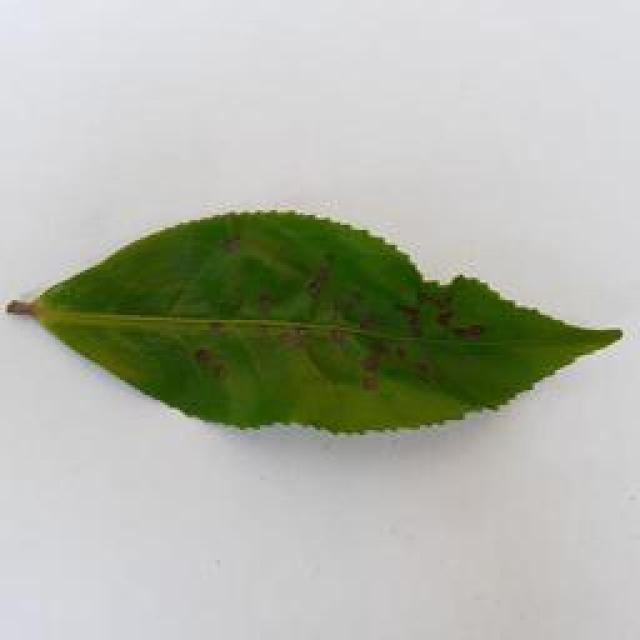Helopeltis: (0, 197, 630, 465)
